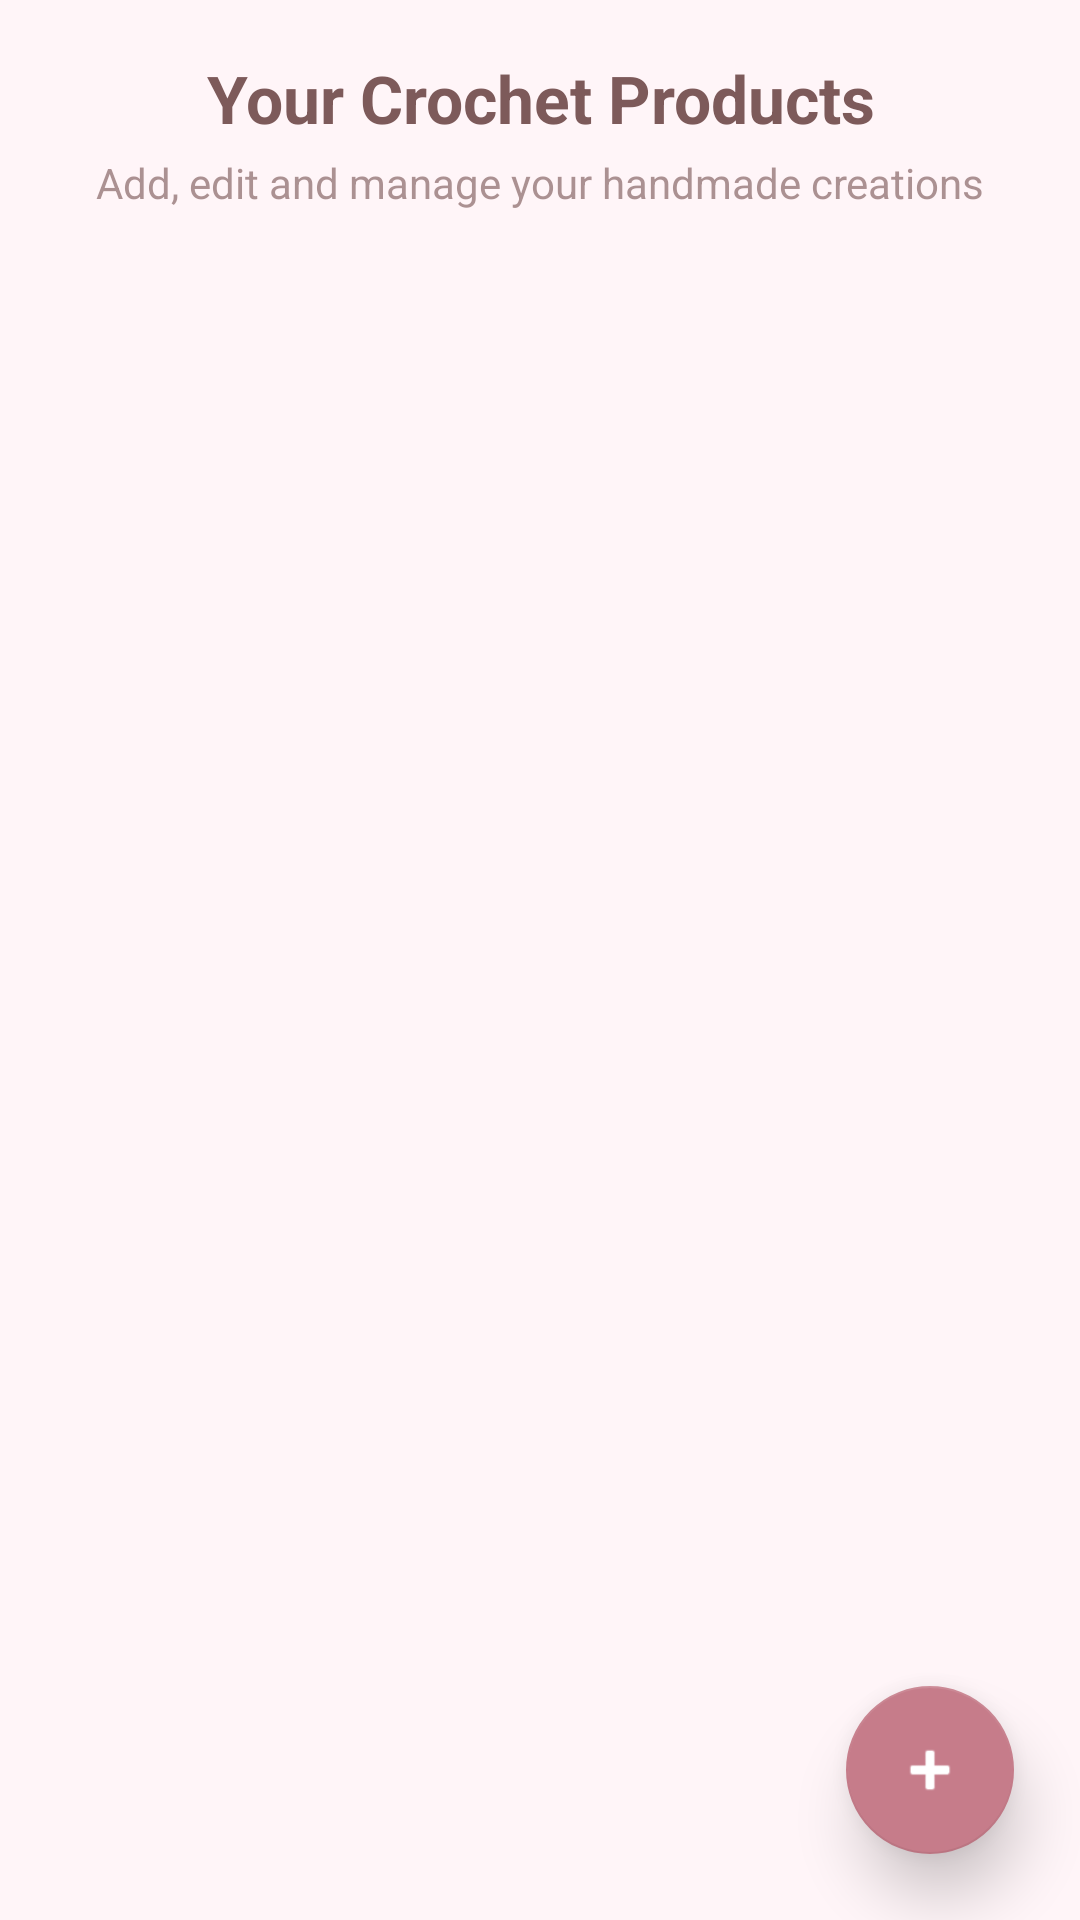

Where icons sit on this 1080px x 1920px app screen, as (x1, y1, x2, y2):
Add Product: (846, 1686, 1014, 1854)
